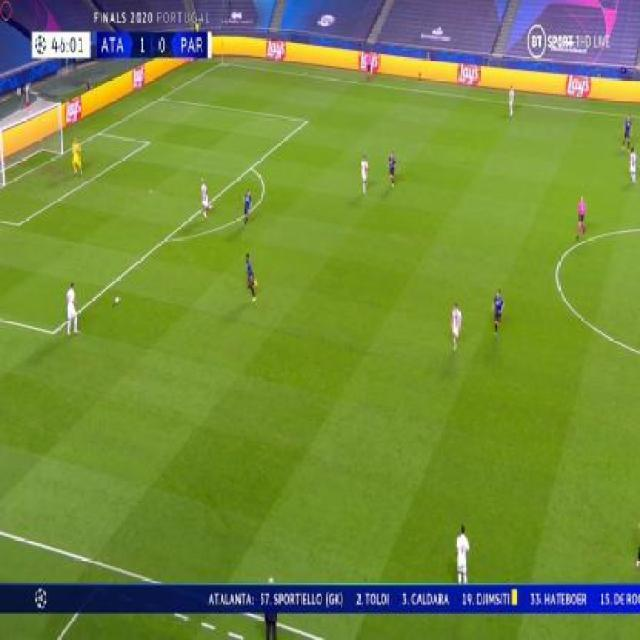ball: (114, 293, 120, 306)
player: (455, 520, 471, 586), (64, 277, 80, 337), (243, 251, 259, 302), (450, 298, 463, 351), (491, 286, 505, 334), (575, 193, 588, 239), (358, 150, 371, 195), (198, 175, 211, 220), (621, 112, 634, 152), (71, 133, 82, 176), (242, 185, 253, 227), (364, 48, 375, 82), (628, 145, 637, 185), (388, 149, 397, 186), (507, 78, 515, 117)
